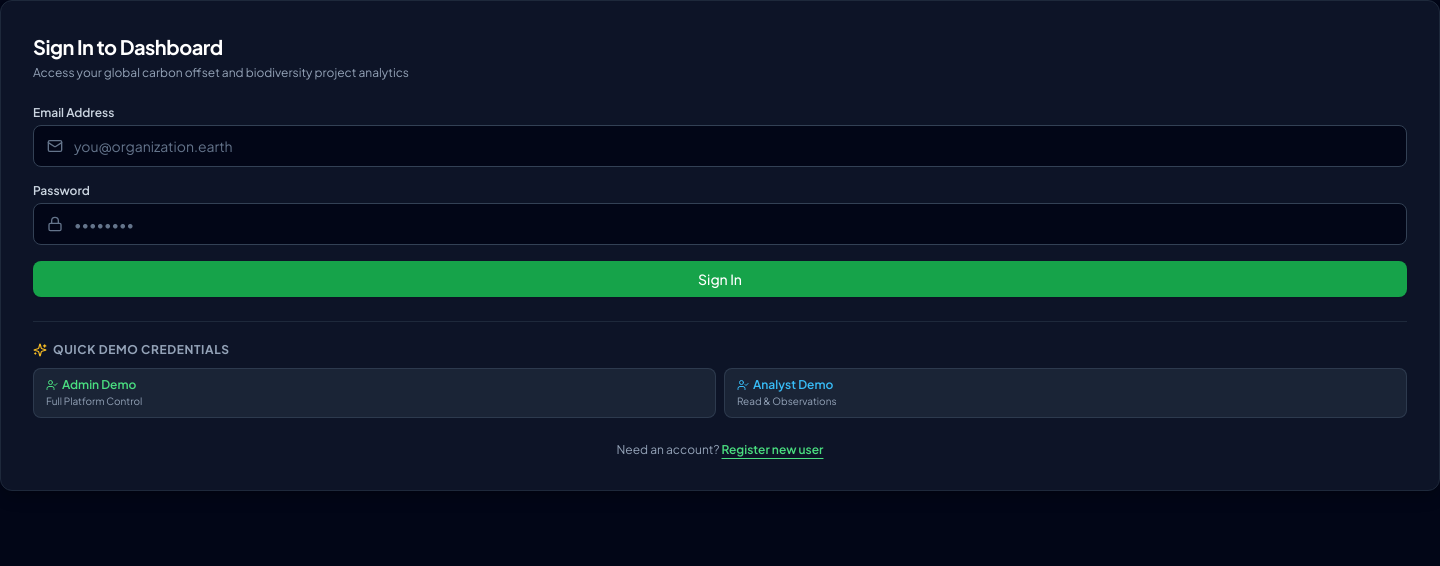
Test: LoginPage Component › renders error alert message when login fails
Type "bad@example.com" into the field with placeholder "you@organization.earth" at (720, 146), box 33,125 -> 1407,167
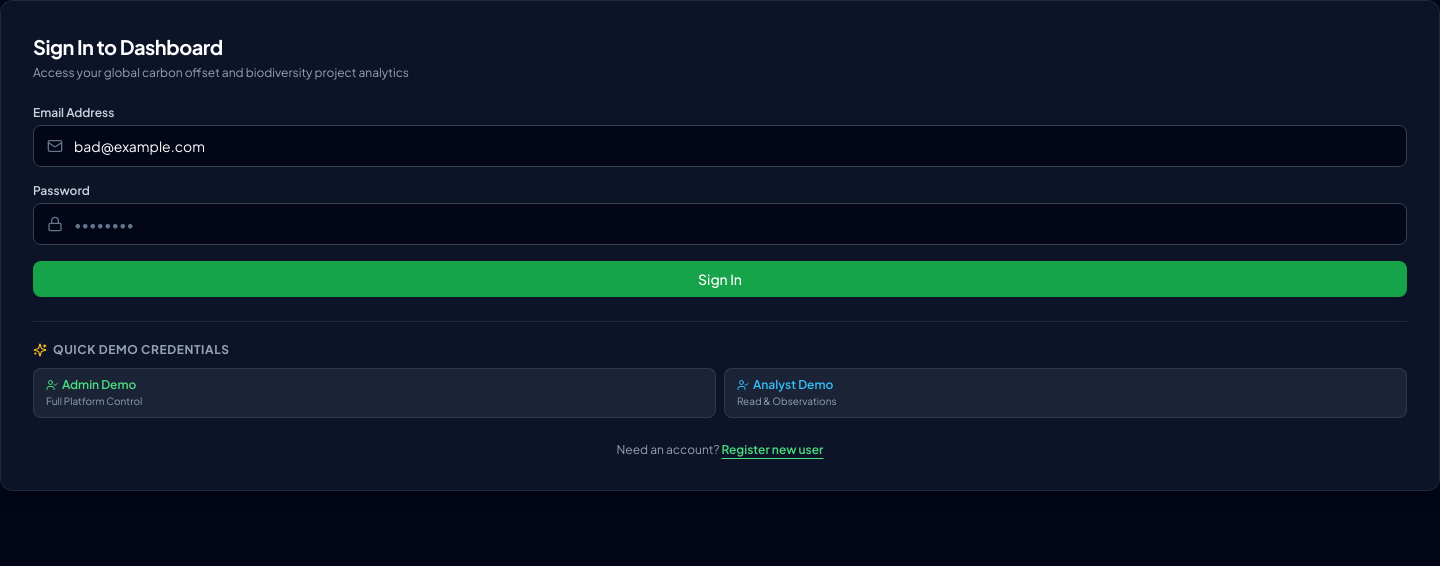
Type "WrongPass" into the password field with placeholder "••••••••" at (720, 224), box 33,203 -> 1407,245
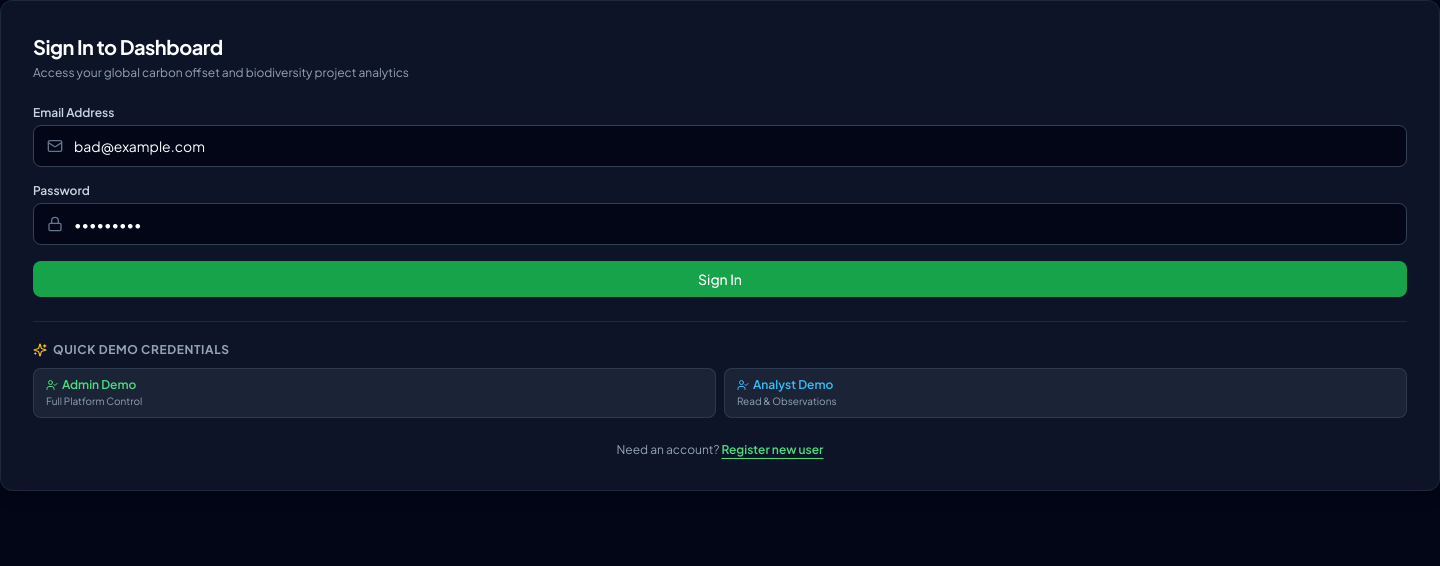
Click the button "Sign In" at (720, 279), box 33,261 -> 1407,297
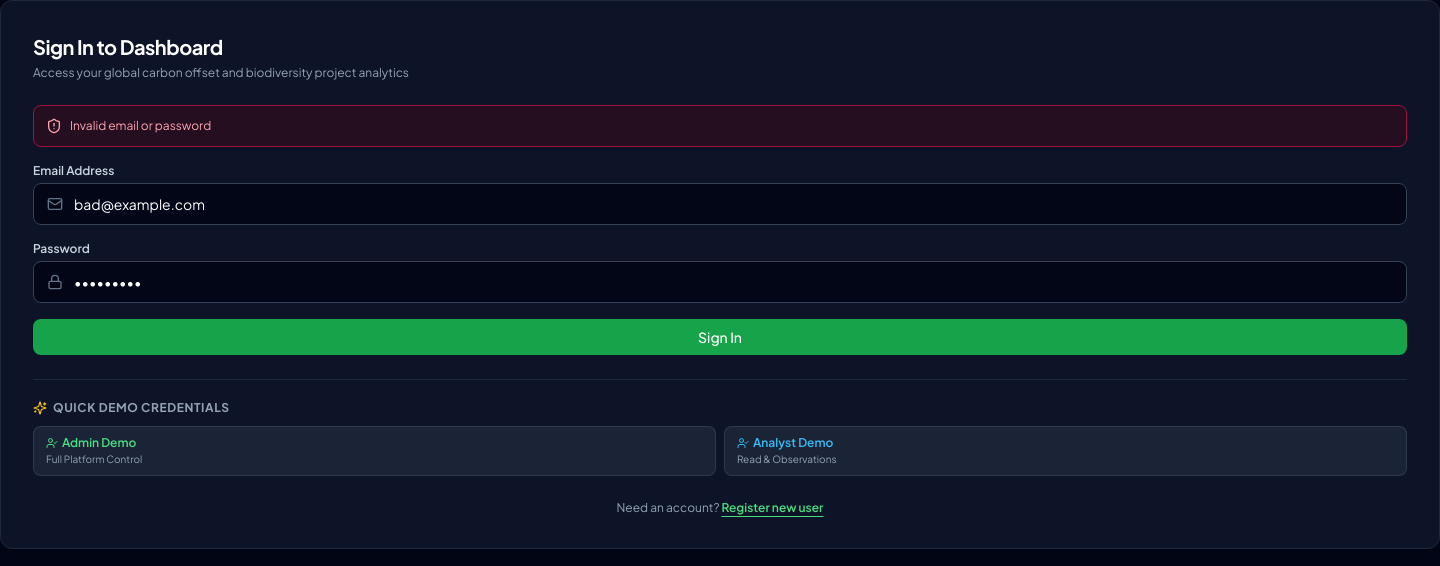
Now the text "Invalid email or password" is shown, box 70,118 -> 211,134
